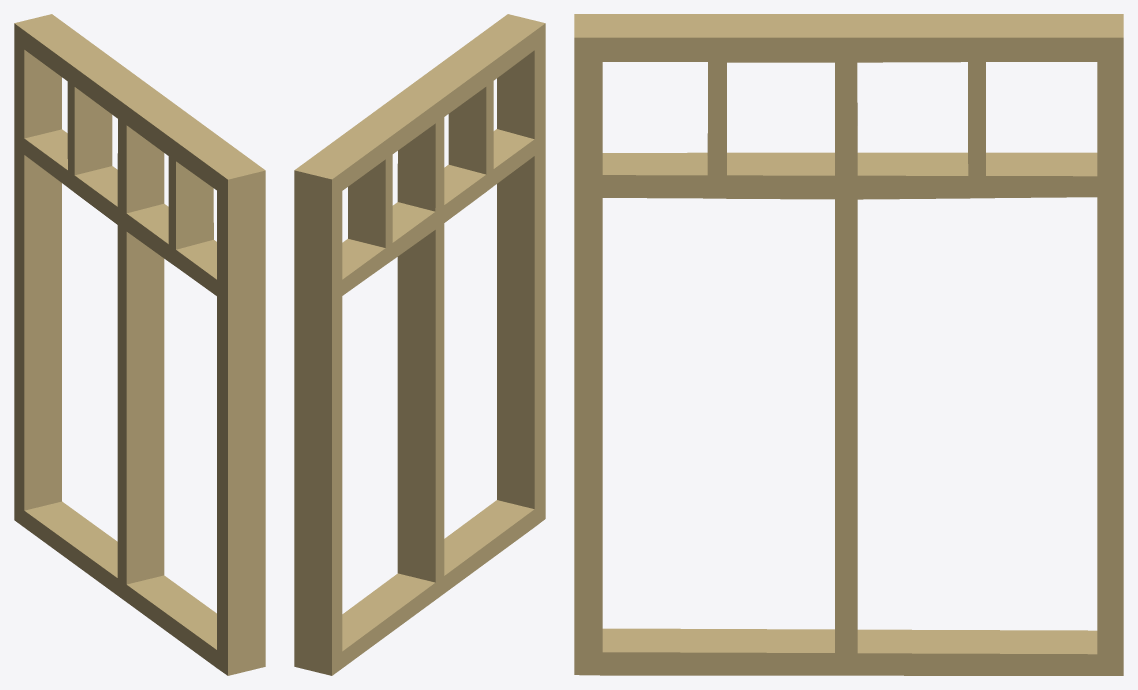
Rendered from window simple.fbx.
3 views of the same model, side by side, from view 1: azimuth 30°, elevation 25°; view 2: azimuth 150°, elevation 25°; view 3: azimuth 270°, elevation 25° (orthographic). The views are drawn at different scales.
Visible parts, largest first — view 1: pCube3; view 2: pCube3; view 3: pCube3.
Boxes of the visible parts, <box> form: pCube3: <box>14,14,265,675</box>; pCube3: <box>294,14,545,675</box>; pCube3: <box>574,14,1123,675</box>.
Bounding box in the file's own units: 5.5 × 69.12 × 53.89.
